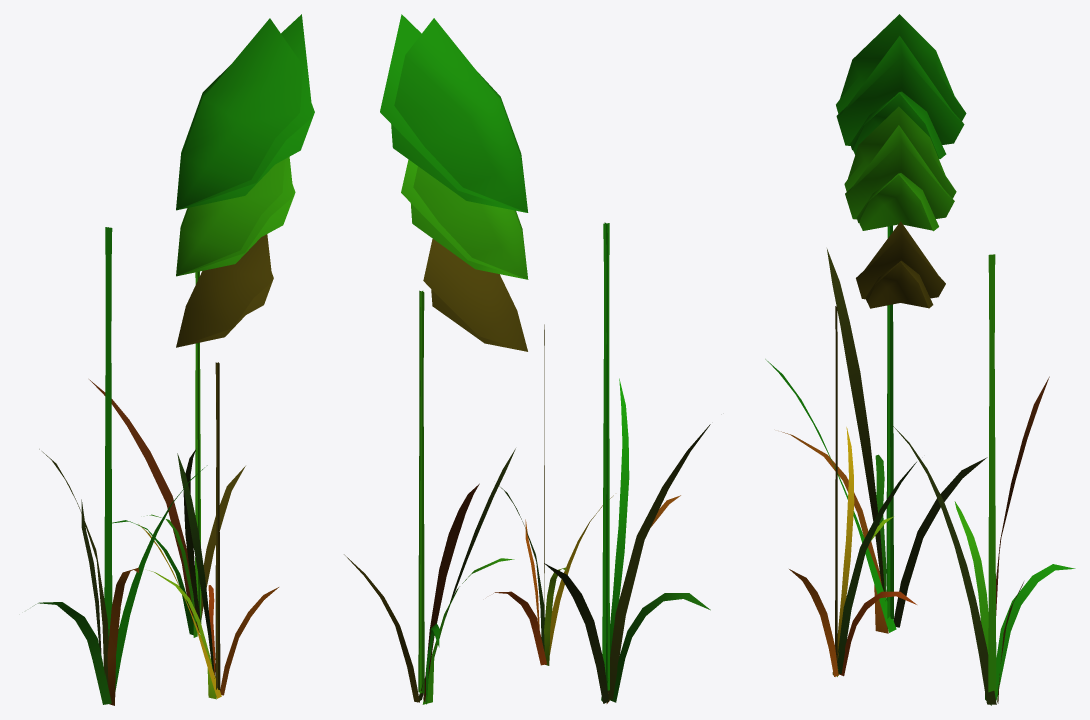
The model's file is Forest_plant_shrub_030.fbx.
The picture shows the model from 3 angles, left to right: view 1: azimuth 30°, elevation 25°; view 2: azimuth 150°, elevation 25°; view 3: azimuth 270°, elevation 25°; orthographic projection. The views are drawn at different scales.
Parts seen in each view (by area): view 1: Object003; view 2: Object003; view 3: Object003.
Boxes of the visible parts, left/top/right/bottom form: Object003: left=32, top=14, right=314, bottom=705; Object003: left=344, top=14, right=710, bottom=704; Object003: left=765, top=14, right=1075, bottom=705.
Bounding box in the file's own units: 88.47 × 182 × 72.54.
